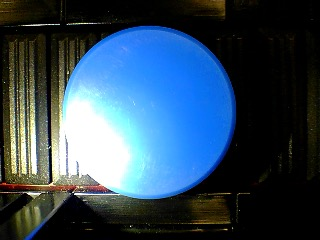BLANK: (63, 25, 236, 199)
